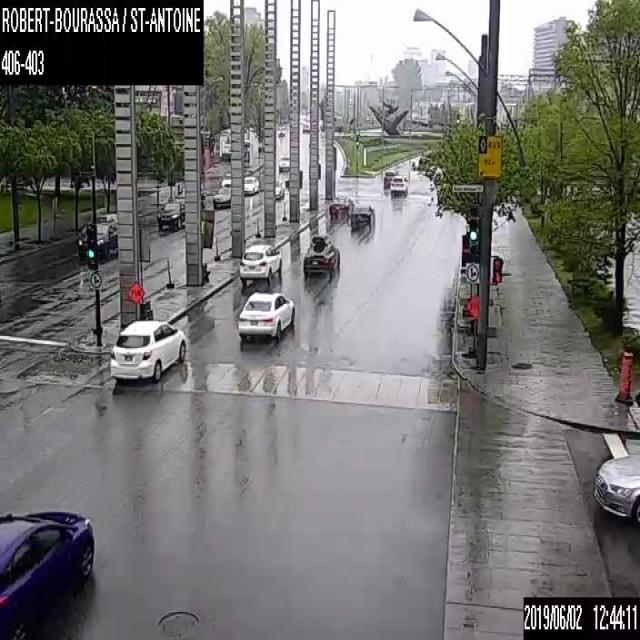construction: (138, 227, 152, 319), (200, 209, 214, 281), (615, 350, 632, 403), (466, 293, 479, 356), (126, 279, 144, 305)
vehicle: (0, 508, 94, 639), (108, 317, 186, 383), (594, 452, 639, 530), (237, 288, 295, 344), (237, 241, 283, 287), (301, 231, 340, 281), (77, 223, 117, 257), (157, 198, 186, 230), (350, 204, 374, 228), (329, 195, 354, 217), (389, 173, 408, 194), (212, 186, 231, 207), (88, 212, 116, 223), (243, 175, 258, 193), (383, 169, 397, 187), (278, 155, 290, 171), (274, 180, 284, 197), (221, 172, 231, 186), (278, 127, 286, 137), (302, 123, 309, 132)
